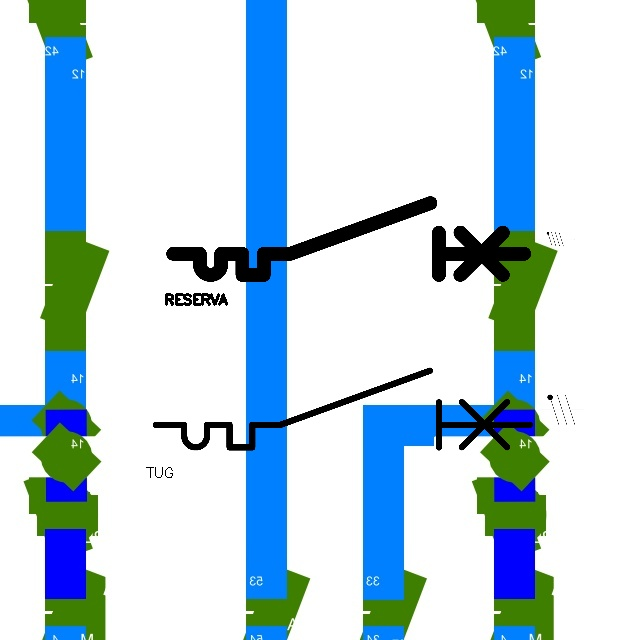interruptor_termomagnetico: (146, 361, 539, 457), (164, 194, 533, 284)
